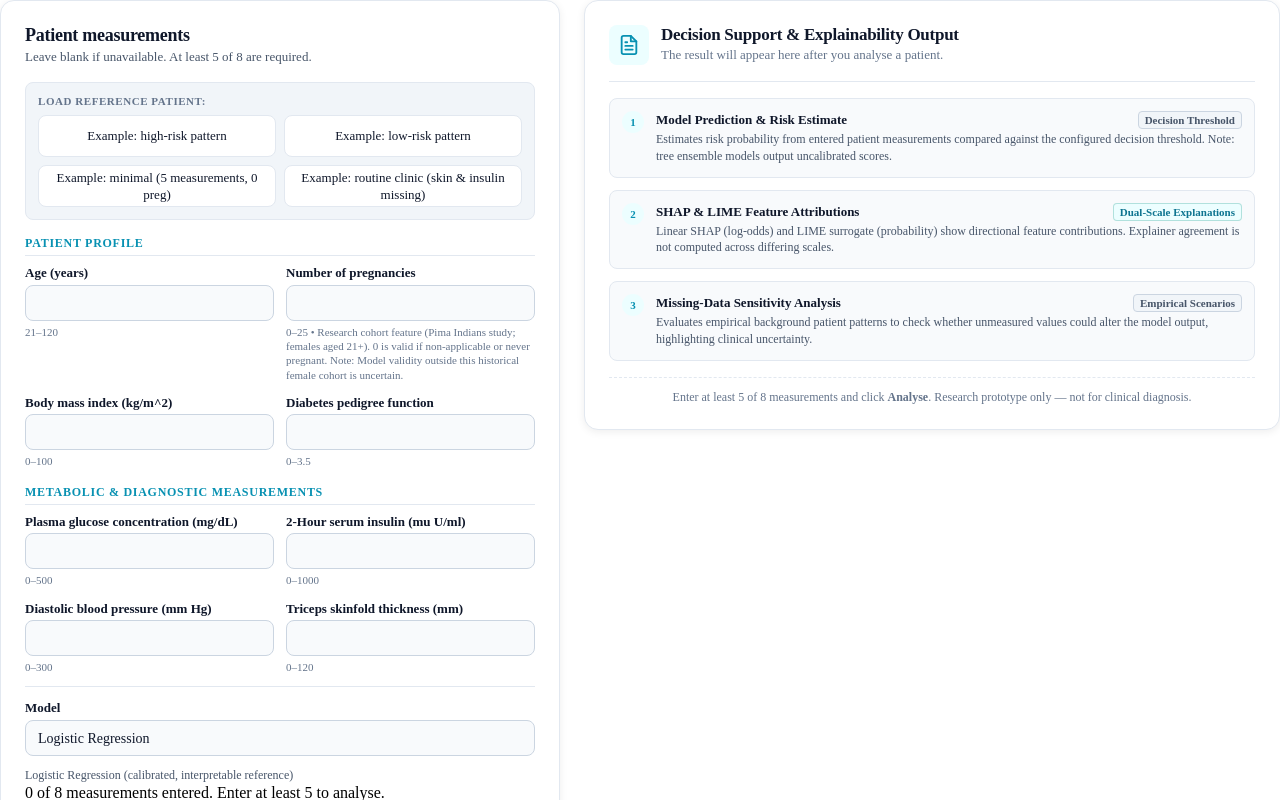
Scenario: PredictionPage › sends the selected model and displays agreement for random_forest
Select "Random Forest (tree ensemble)" in the dropdown labelled "Model" at (280, 738), box [25,720,535,756]
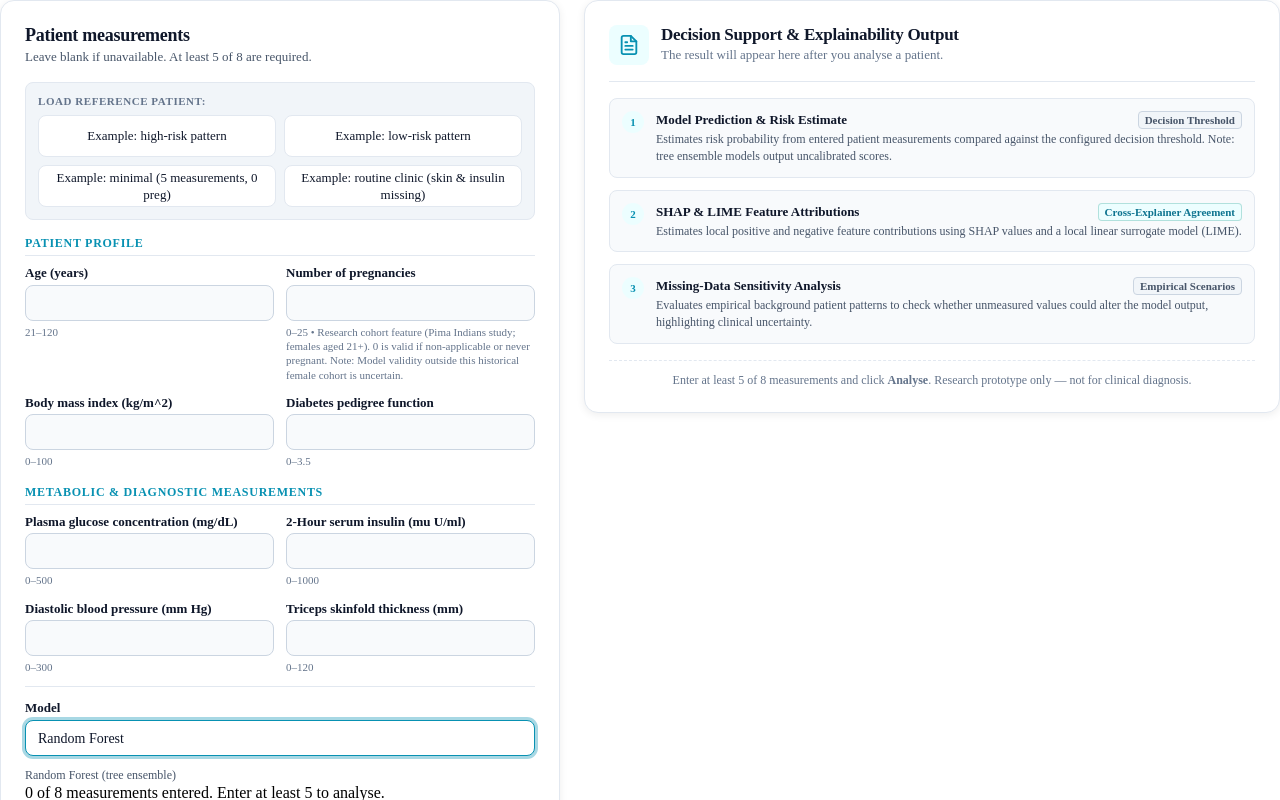
Click the button "Example: high-risk pattern" at (157, 136), box [38,115,276,157]
(page scrolled)
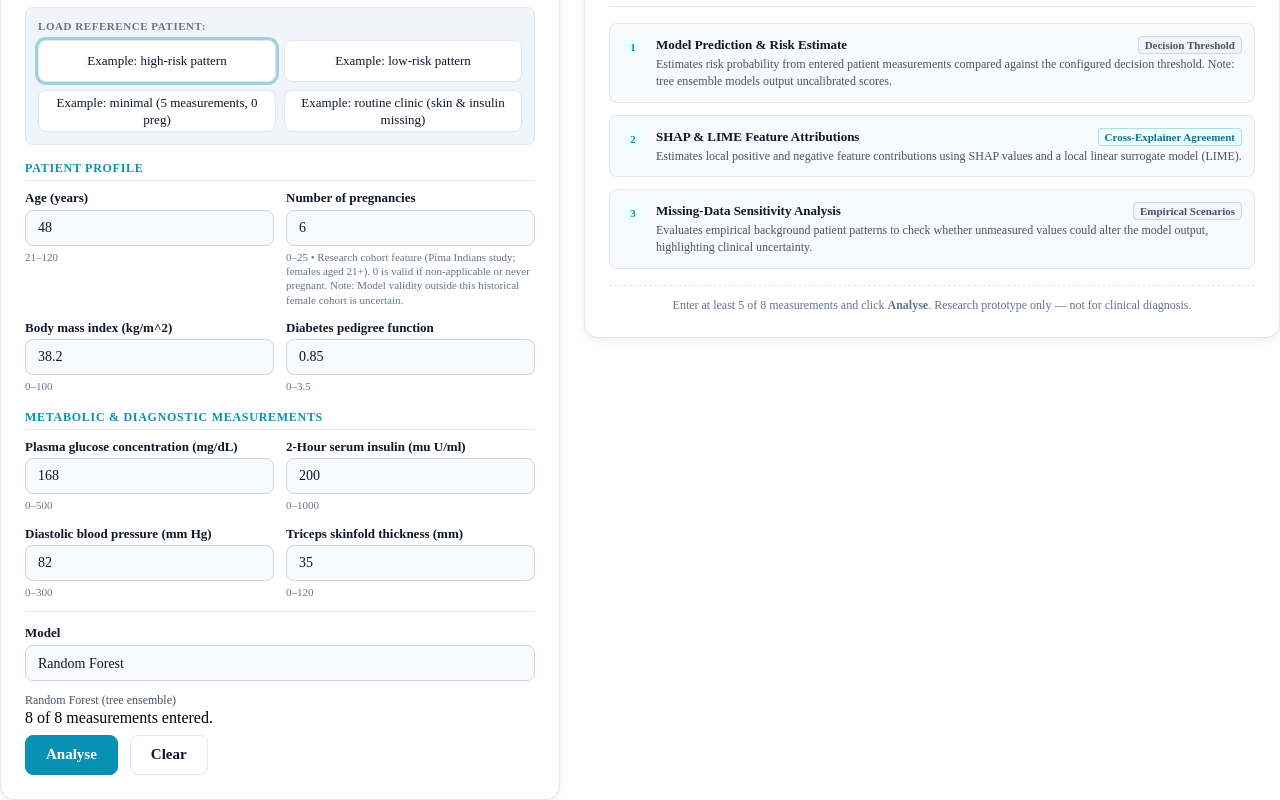
Click the button "Analyse" at (71, 755), box [25,735,118,775]
(page scrolled)
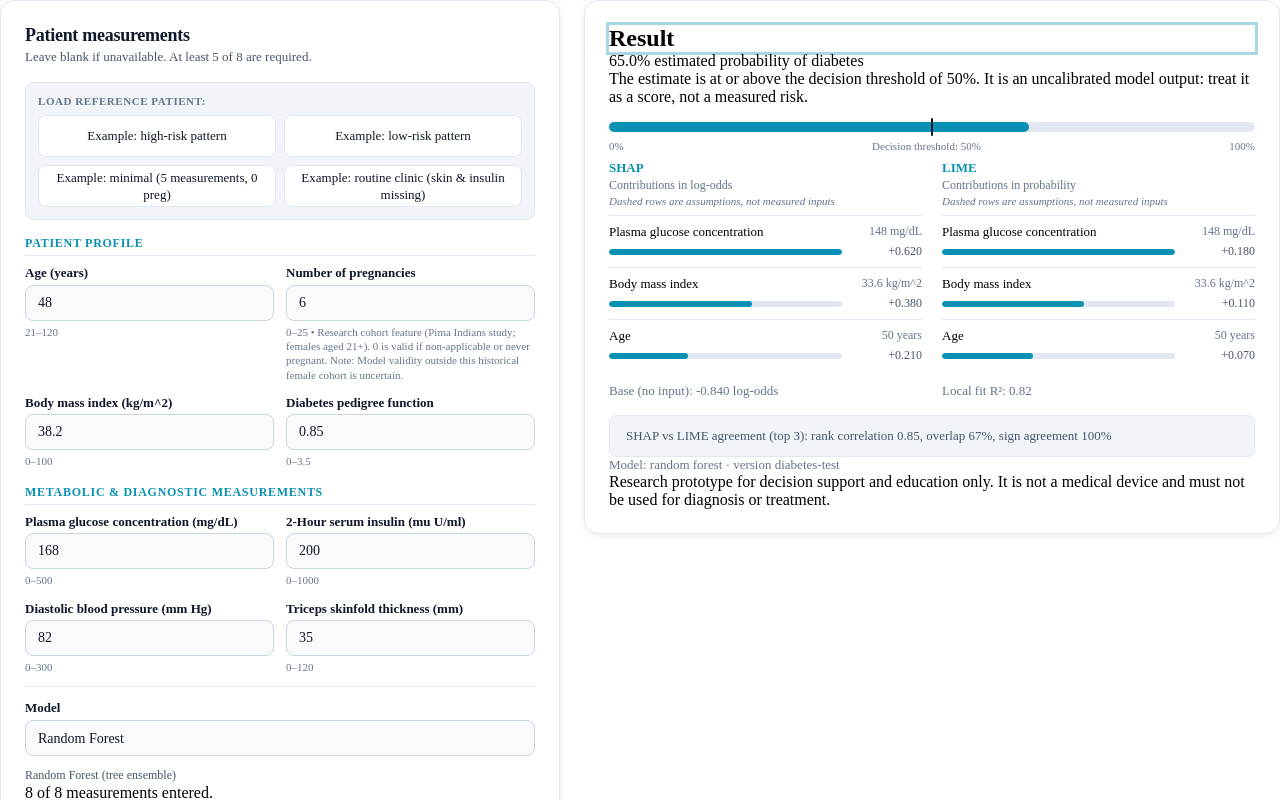
Expected: the text "65.0%" is shown, [609,52,650,69]
Expected: the text "SHAP vs LIME agreement (top 3)" is shown, [626,428,1112,443]
